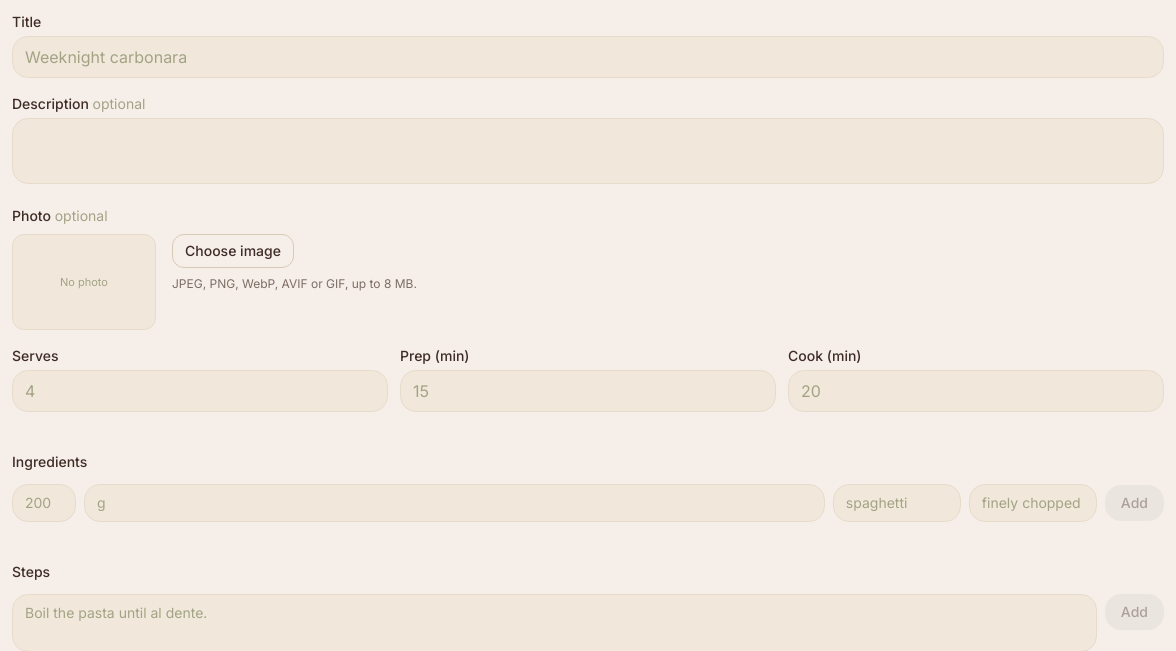
RecipeForm — composer › commits an ingredient on Enter
In the field named "Ingredient": (897, 503) 833,484 -> 961,522, type "salt"
Then press Enter
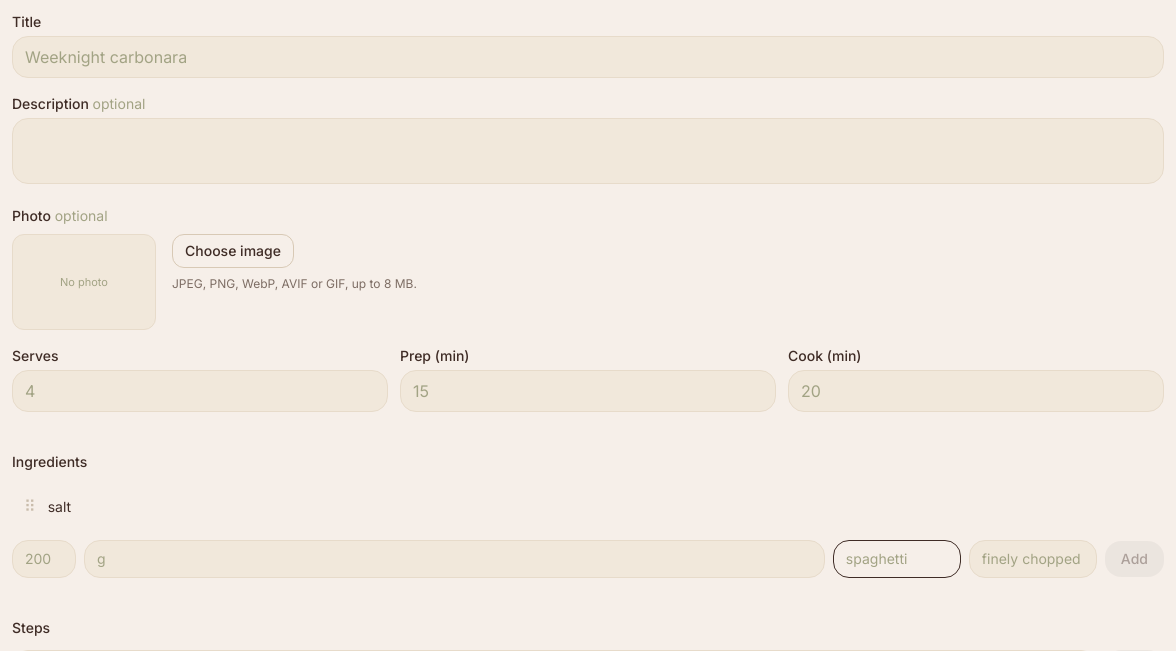
Expected: the field named "Ingredient" is empty, 833,540 -> 961,578
Expected: the text "salt" is shown, 48,498 -> 71,515
